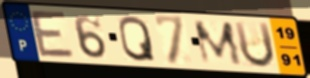6: (72, 13, 108, 60)
7: (153, 13, 188, 68)
E: (28, 9, 78, 60)
M: (191, 20, 245, 67)
Q: (117, 14, 158, 63)
U: (232, 20, 278, 71)
